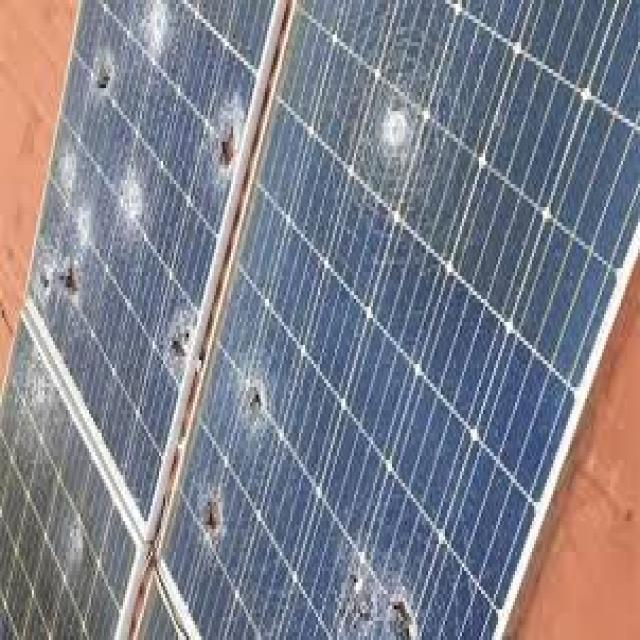faulty: (158, 0, 640, 640), (0, 318, 144, 639)
